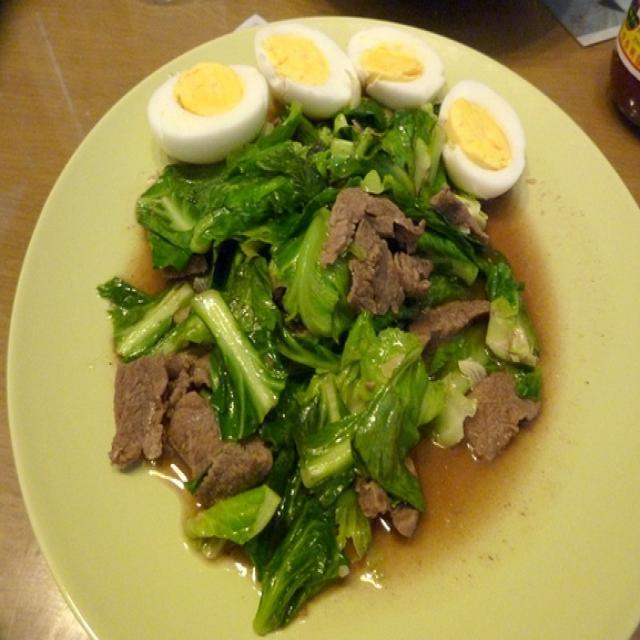牛肉菜式: (28, 18, 618, 628)
